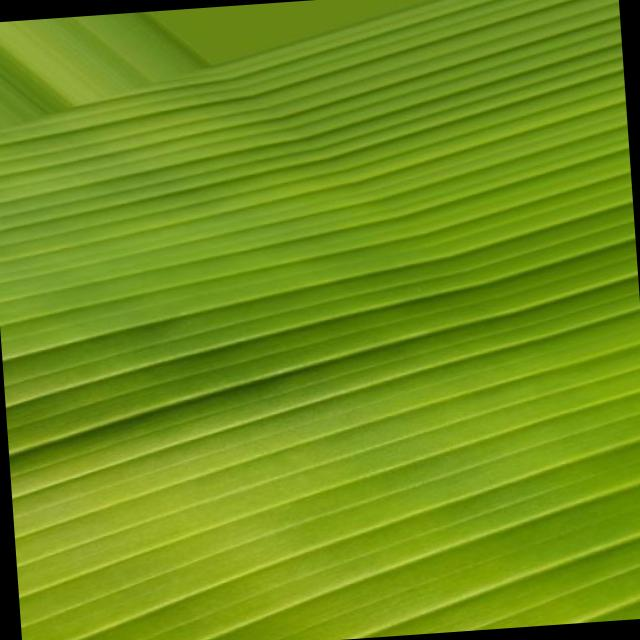Banana_Healthy: (73, 132, 618, 496)
